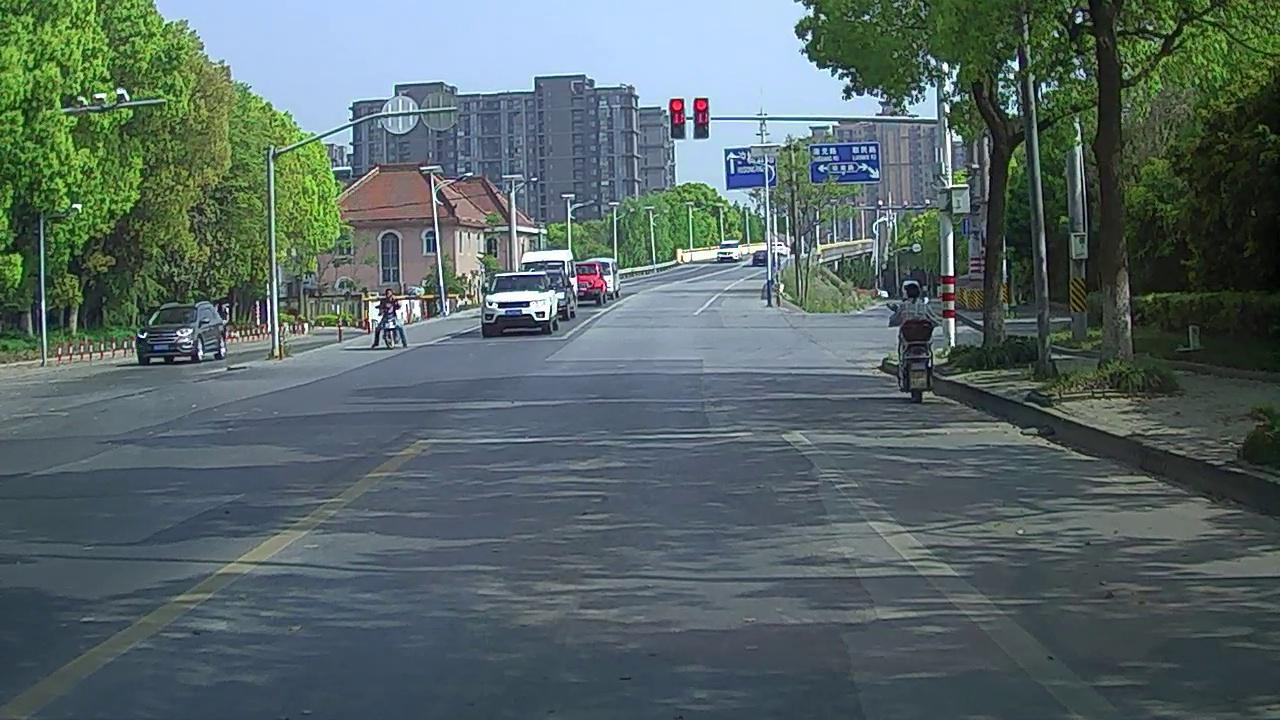traffic_light: (671, 98, 684, 138), (695, 98, 708, 138)
